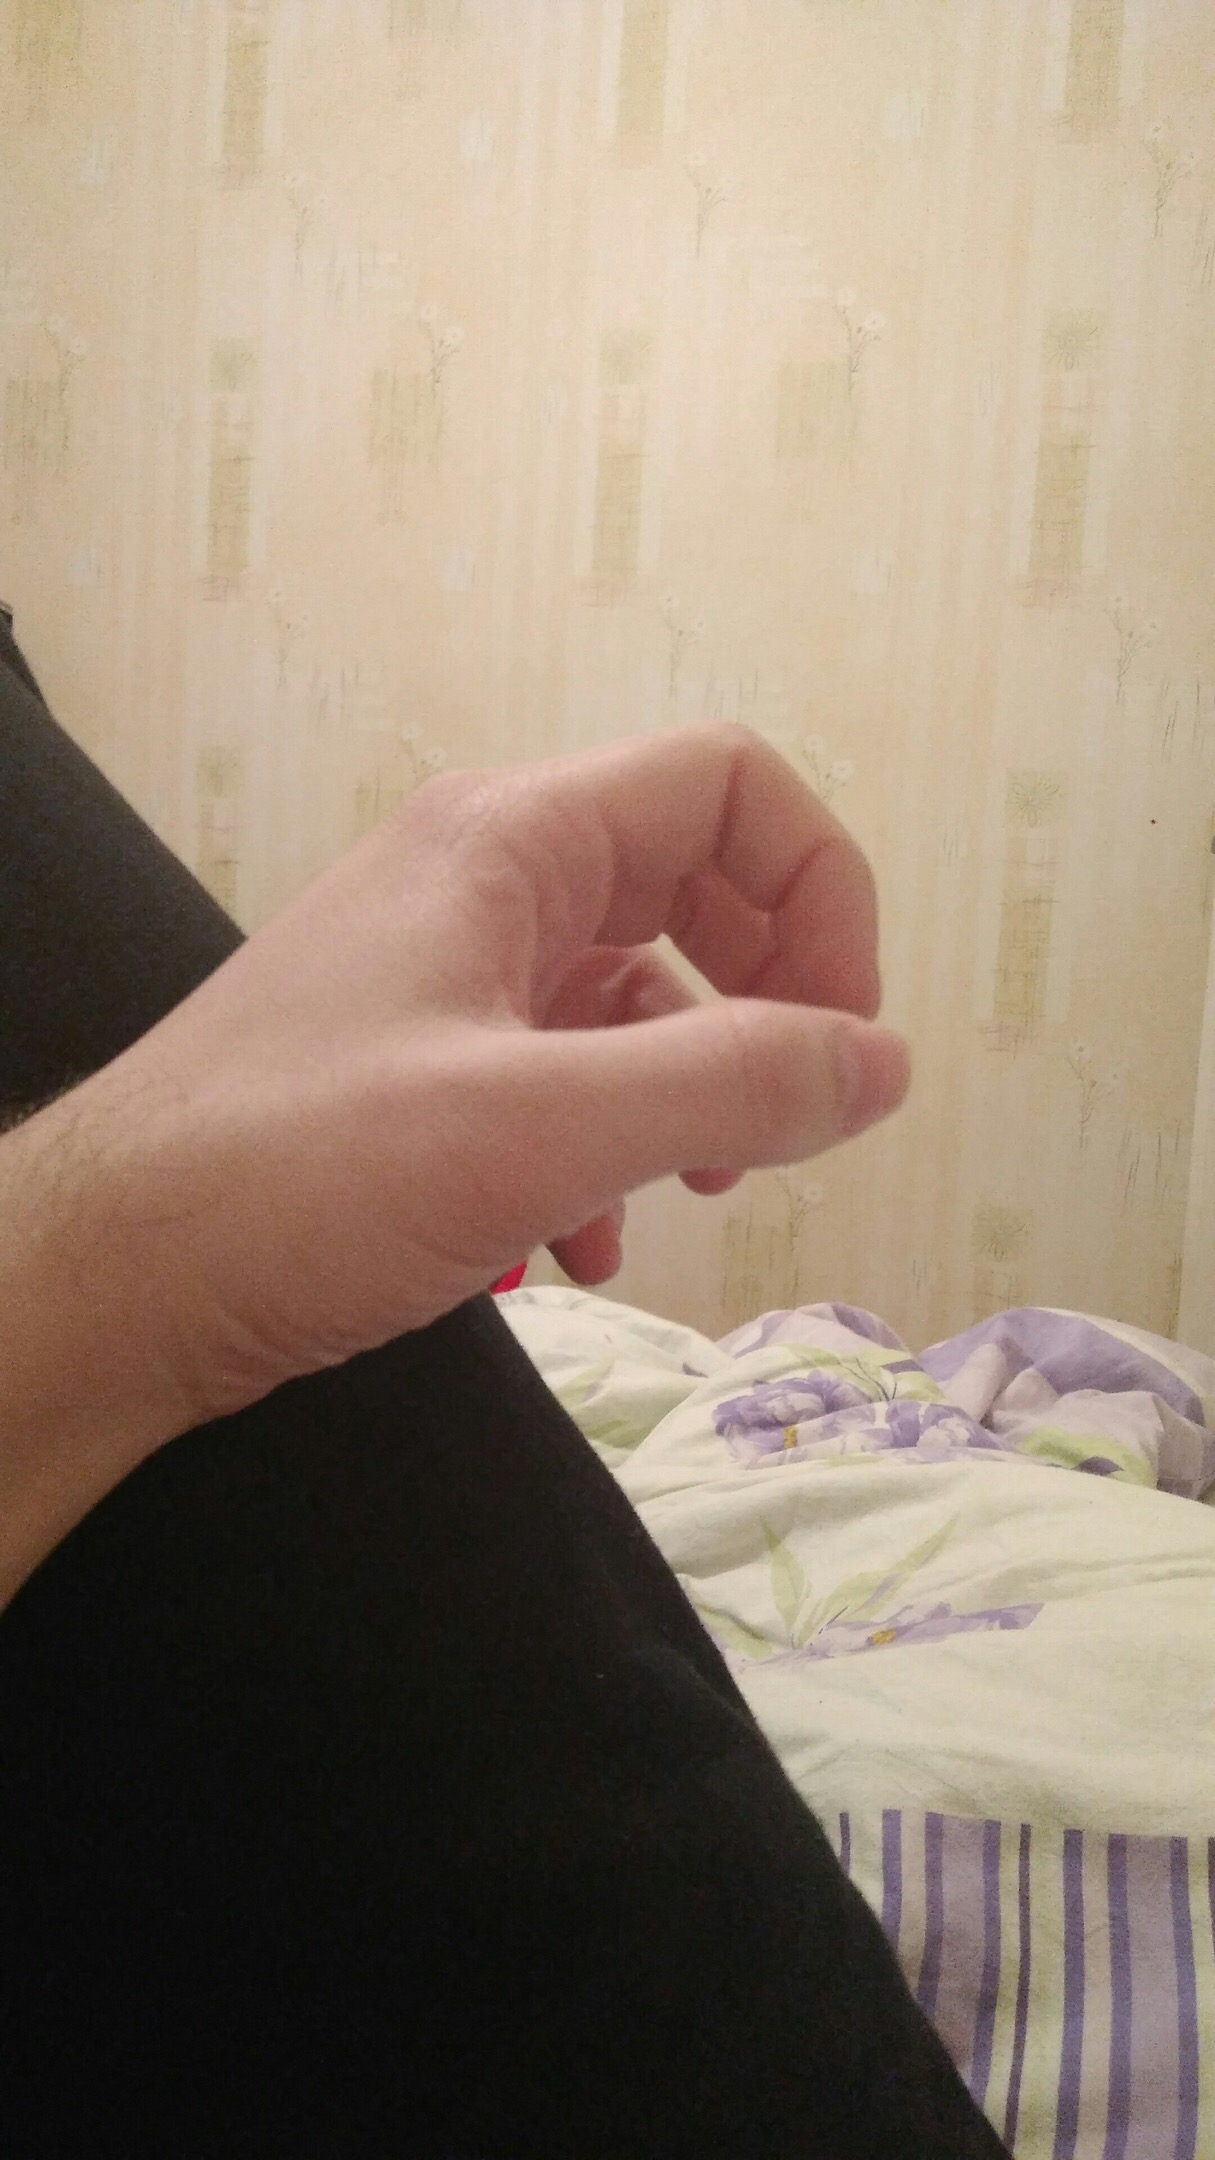hand: (233, 763, 865, 1368)
